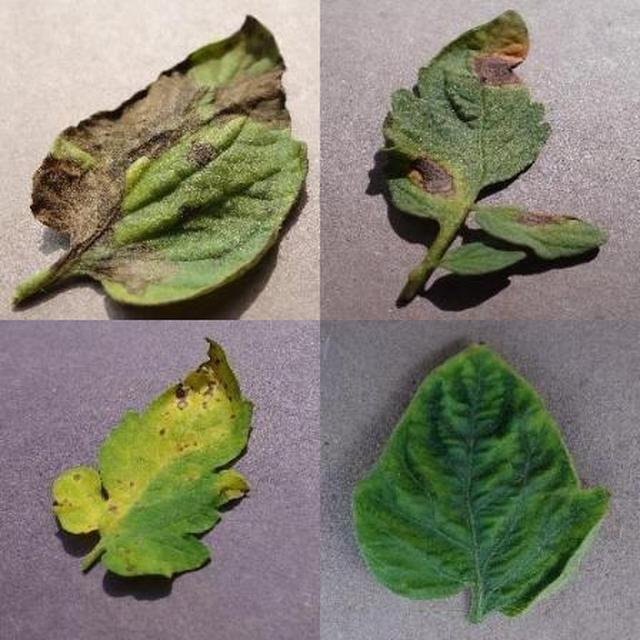Late Blight Leaf: (218, 158, 640, 640)
